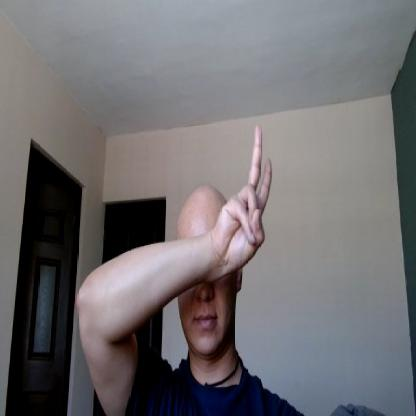V: (212, 118, 270, 276)
